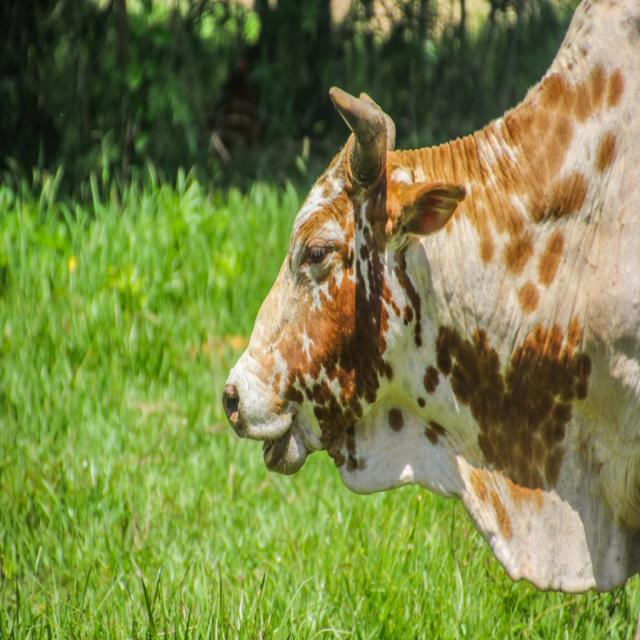Cattle: (222, 0, 640, 593)
